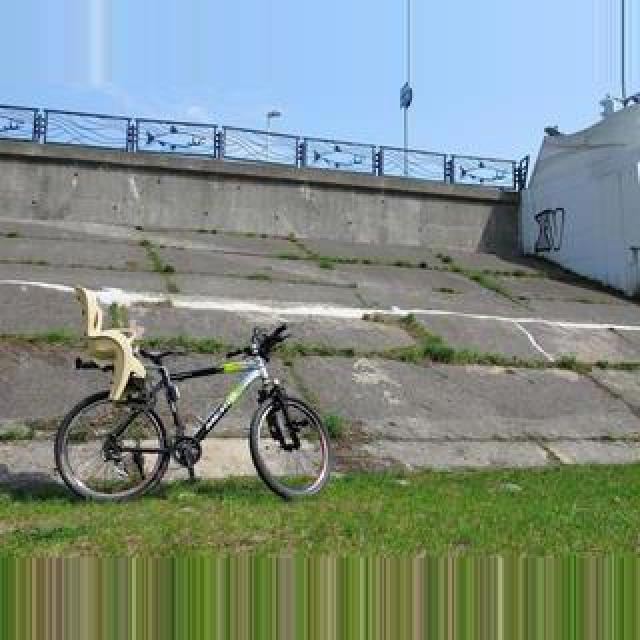Person: (52, 303, 334, 507)
